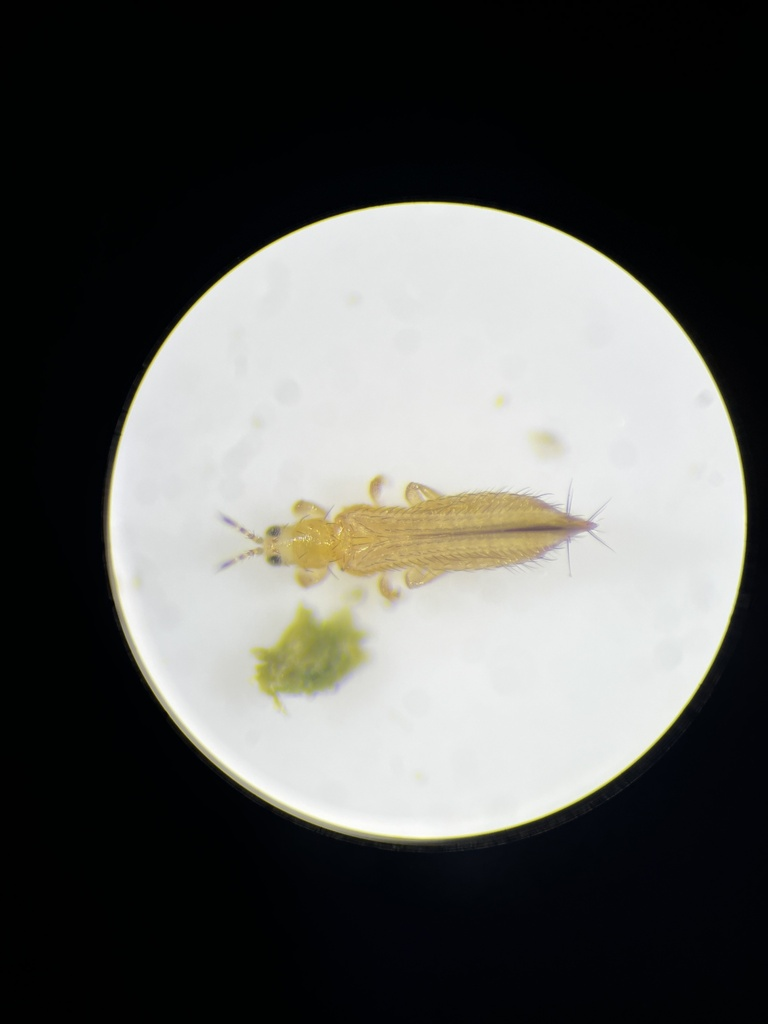tiny_pests: (150, 416, 688, 655)
